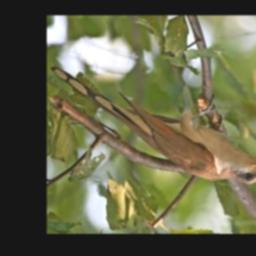Cuckoo: (50, 66, 256, 186)
